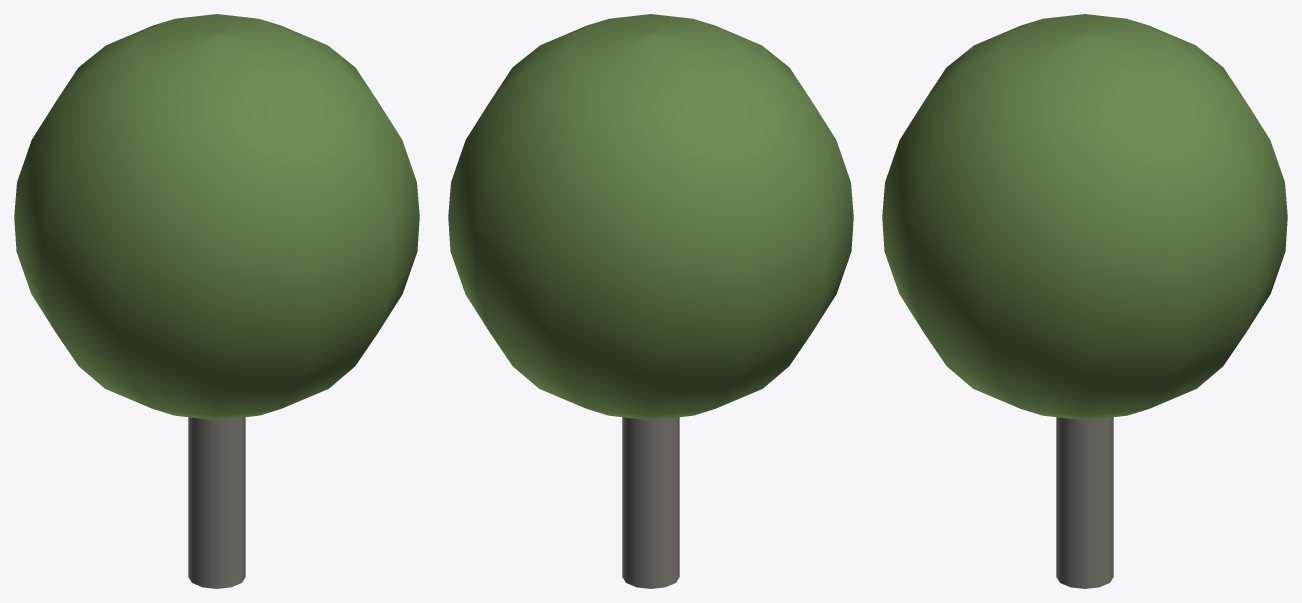
The model's file is Field_Elm_Analytical_0.obj.
3 renders of one model, left to right at view 1: azimuth 30°, elevation 25°; view 2: azimuth 150°, elevation 25°; view 3: azimuth 270°, elevation 25°, orthographic.
Visible parts, largest first — view 1: AnalyticalCrown, AnalyticalTrunk; view 2: AnalyticalCrown, AnalyticalTrunk; view 3: AnalyticalCrown, AnalyticalTrunk.
Boxes of the visible parts, x1,y1,x2,y2 form: AnalyticalCrown: (14, 14, 419, 420); AnalyticalTrunk: (188, 417, 245, 588); AnalyticalCrown: (448, 14, 853, 420); AnalyticalTrunk: (622, 417, 679, 588); AnalyticalCrown: (882, 14, 1287, 420); AnalyticalTrunk: (1056, 417, 1113, 588).
Bounding box in the file's own units: 15.62 × 23 × 15.62.
